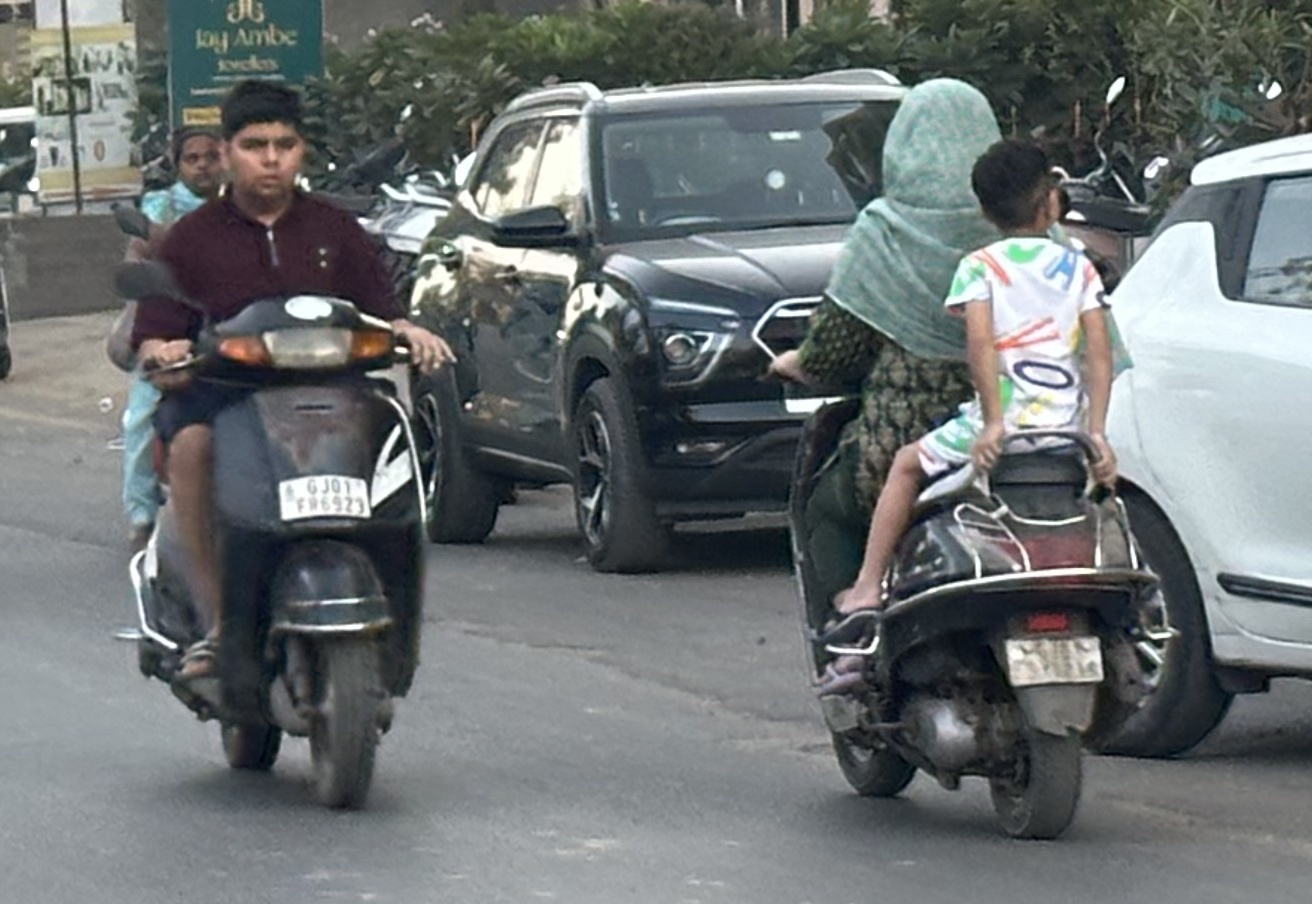BikeWithRider: (751, 66, 1181, 844), (93, 71, 473, 818)
NoHelmet: (875, 71, 1008, 214), (210, 73, 317, 212), (962, 132, 1072, 245), (159, 119, 238, 204)
